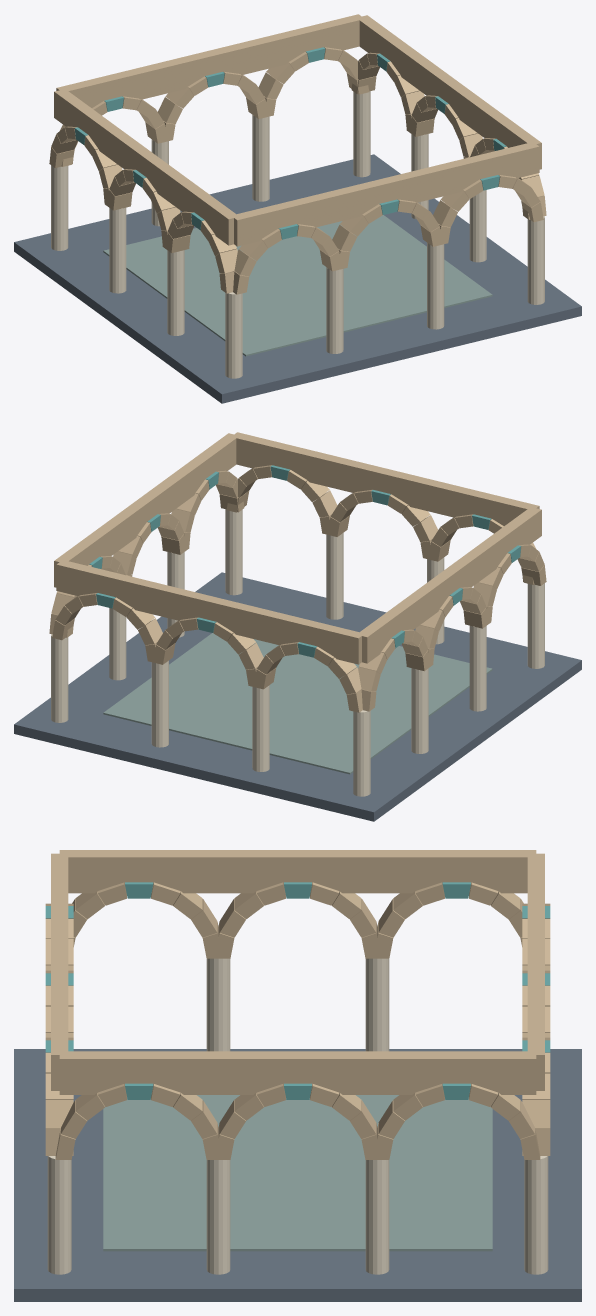
Rendered from sample.glb.
3 views of the same model, one above another, from view 1: azimuth 30°, elevation 25°; view 2: azimuth 150°, elevation 25°; view 3: azimuth 270°, elevation 25° (orthographic). The views are drawn at different scales.
Visible parts, largest first — view 1: DISPLAY_plinth, open_court_marker, arcade_coping, arcade_coping.002, arcade_coping.003, arcade_coping.001, arcade_column, arcade_column.003, arcade_column.010, arcade_column.011, arcade_column.007, arcade_column.002 (+5 smaller); view 2: DISPLAY_plinth, open_court_marker, arcade_coping.002, arcade_coping, arcade_coping.003, arcade_coping.001, arcade_column.009, arcade_column.006, arcade_column.011, arcade_column.010, arcade_column.002, arcade_column.007 (+5 smaller); view 3: DISPLAY_plinth, open_court_marker, arcade_coping.001, arcade_coping.003, arcade_coping, arcade_coping.002, arcade_column.003, arcade_column.006, arcade_column.004, arcade_column.005, arcade_column.010, arcade_column.011 (+10 smaller).
Boxes of the visible parts, x1,y1,x2,y2 form: DISPLAY_plinth: [14, 154, 581, 403]; open_court_marker: [103, 215, 492, 356]; arcade_coping: [231, 142, 539, 246]; arcade_coping.002: [56, 14, 364, 107]; arcade_coping.003: [54, 89, 235, 245]; arcade_coping.001: [357, 15, 541, 169]; arcade_column: [225, 292, 242, 378]; arcade_column.003: [527, 216, 544, 304]; arcade_column.010: [109, 207, 126, 293]; arcade_column.011: [167, 250, 184, 335]; arcade_column.007: [252, 115, 269, 201]; arcade_column.002: [427, 242, 444, 329]; DISPLAY_plinth: [14, 572, 581, 821]; open_court_marker: [103, 633, 492, 774]; arcade_coping.002: [56, 560, 361, 664]; arcade_coping: [231, 432, 539, 525]; arcade_coping.003: [356, 508, 541, 663]; arcade_coping.001: [54, 433, 238, 587]; arcade_column.009: [353, 710, 370, 796]; arcade_column.006: [51, 634, 68, 722]; arcade_column.011: [469, 625, 486, 711]; arcade_column.010: [411, 668, 428, 753]; arcade_column.002: [326, 533, 343, 619]; arcade_column.007: [151, 660, 168, 747]; DISPLAY_plinth: [14, 1049, 581, 1301]; open_court_marker: [103, 1095, 492, 1251]; arcade_coping.001: [59, 1051, 536, 1094]; arcade_coping.003: [59, 850, 536, 893]; arcade_coping: [51, 853, 68, 1090]; arcade_coping.002: [527, 853, 544, 1090]; arcade_column.003: [47, 1156, 71, 1274]; arcade_column.006: [524, 1156, 548, 1274]; arcade_column.004: [206, 1160, 230, 1274]; arcade_column.005: [365, 1160, 389, 1274]; arcade_column.010: [365, 958, 389, 1051]; arcade_column.011: [206, 958, 230, 1051].
Size of the model in its own units: 7.15 by 3.16 by 7.15.
